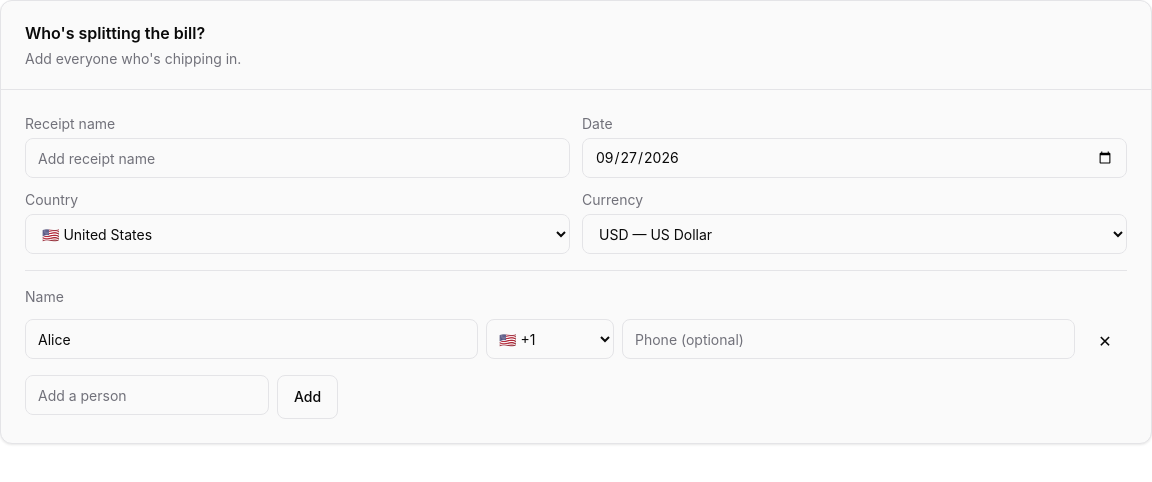
PeopleManager › shows an inline error when the phone field contains a non-digit
Type "555-123" into the field named "Alice phone number".
click(848, 339); type("555-123")  # box [622,319,1075,359]
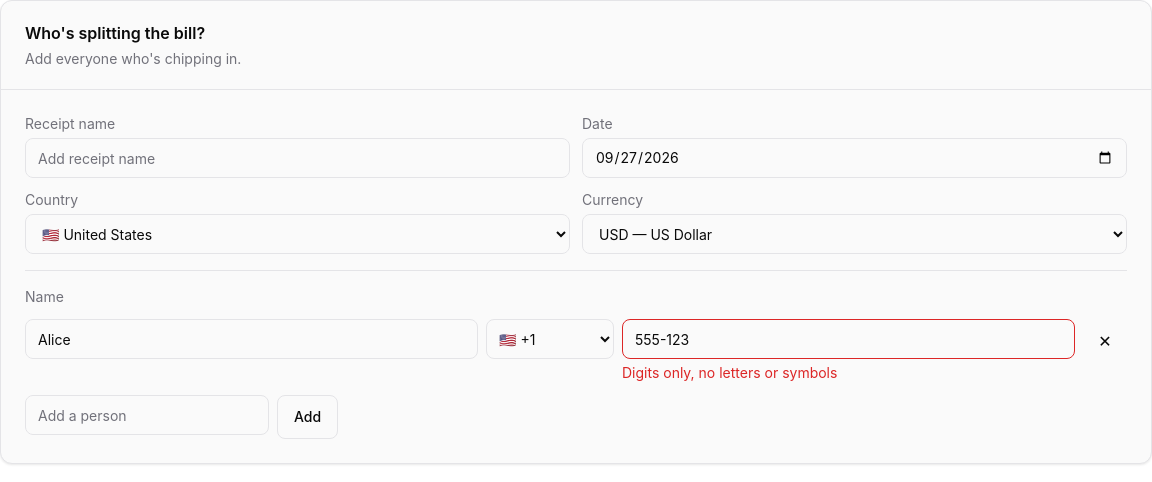
Expected: the message reads "Digits only, no letters or symbols", [622,364,837,381]
